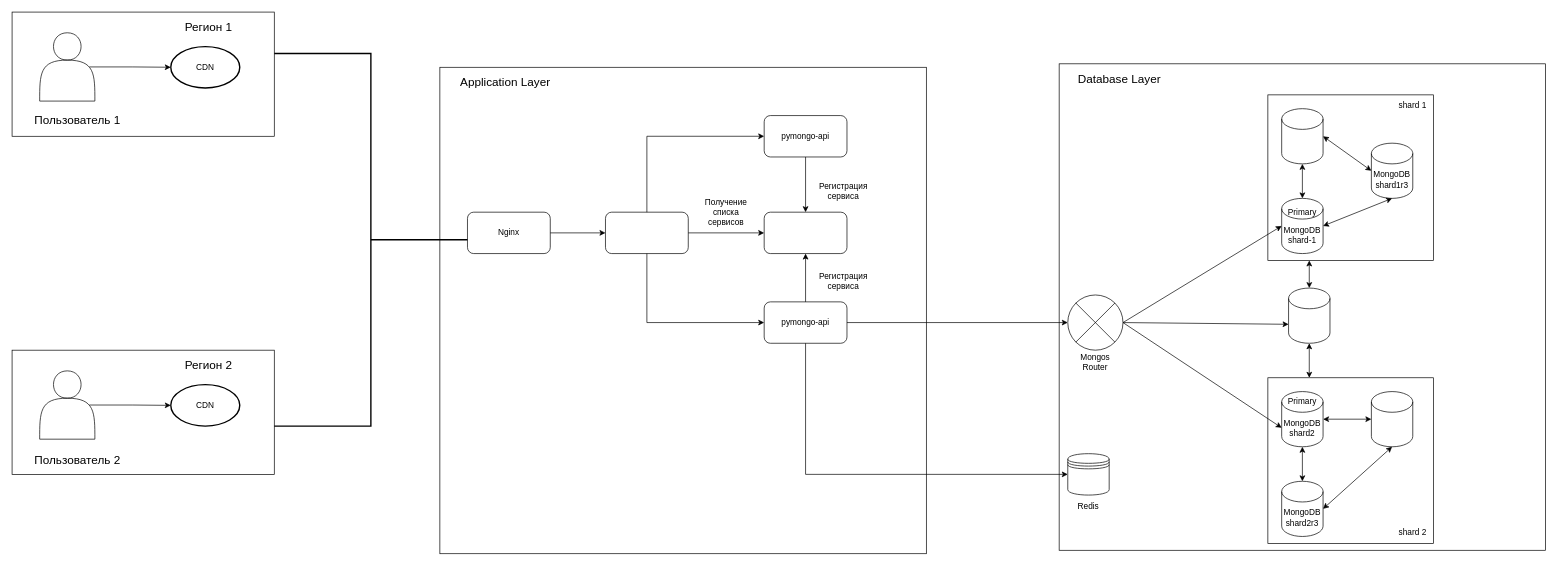
Some shapes in this 1558 by 566 pixel diagram are drawn without their labels. The centre of each missing label's shape, as x and y in pixels:
"APISIX" goes at (x=646, y=232).
"Consil" goes at (x=805, y=232).
"MongoDB config-srv" goes at (x=1309, y=315).
"MongoDB shard1r2" goes at (x=1302, y=136).
"MongoDB shard2r2" goes at (x=1392, y=419).
